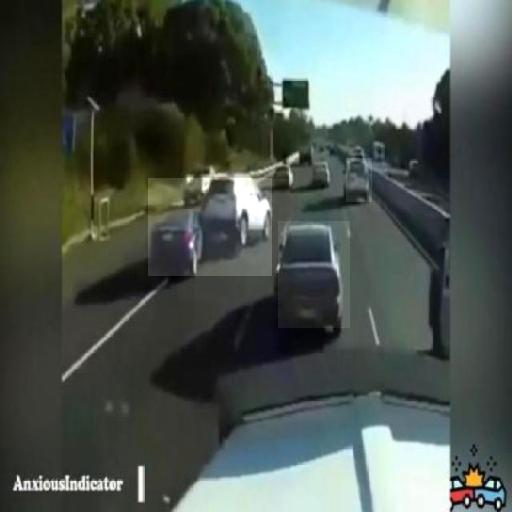小汽车: (278, 221, 350, 328), (346, 158, 372, 202)
小汽车撞小汽车: (148, 178, 272, 276)
